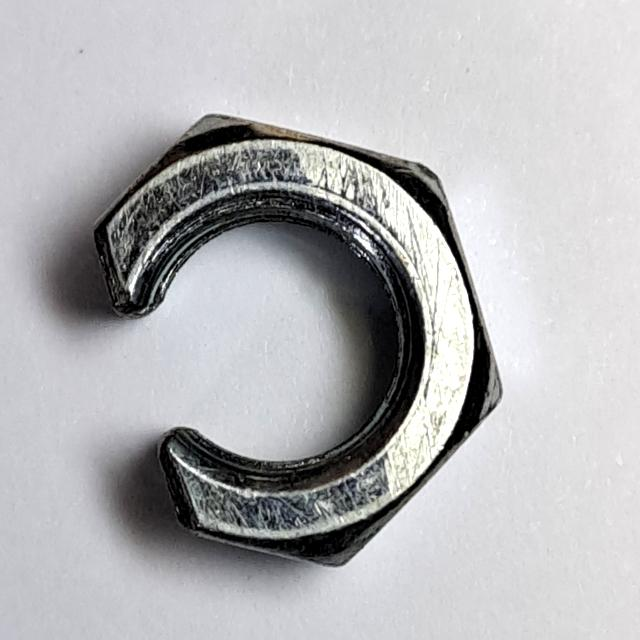Fracture: (83, 102, 516, 581)
